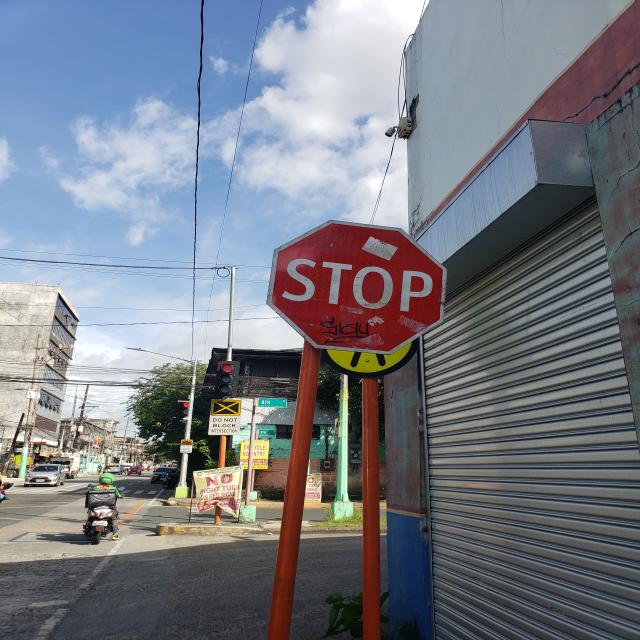stop-sign: (266, 219, 448, 355)
